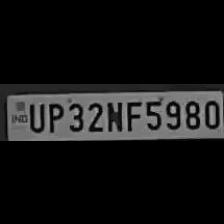0: (202, 97, 220, 129)
2: (84, 97, 104, 130)
3: (65, 97, 83, 130)
5: (142, 96, 162, 130)
8: (183, 96, 201, 130)
9: (163, 96, 181, 130)
F: (124, 97, 140, 131)
N: (105, 96, 123, 132)
P: (45, 97, 63, 132)
U: (26, 99, 44, 131)
